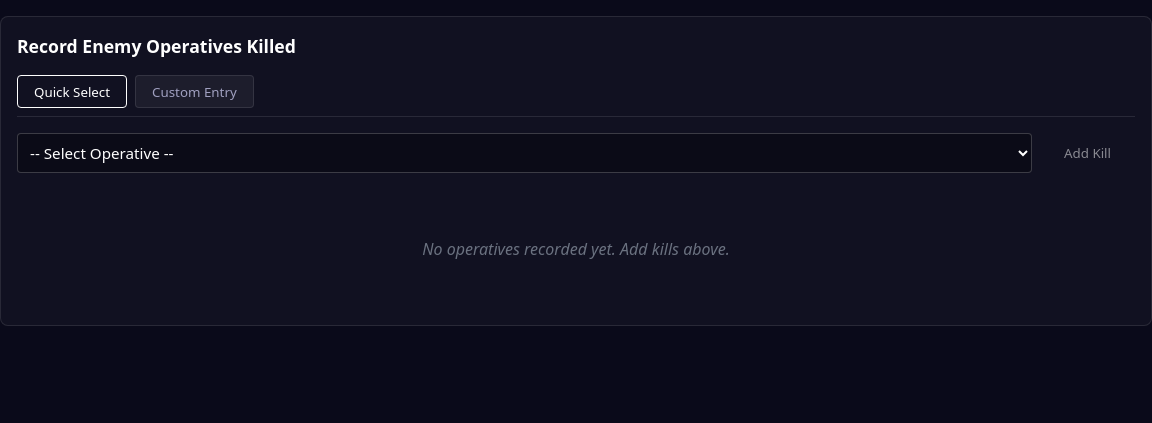
Test: OperativeKillRecorder › mode switching › should switch to custom mode when custom button clicked
The image size is (1152, 423).
Click the button "Custom Entry" at (194, 92), box top-left (135, 75), bottom-right (254, 108)
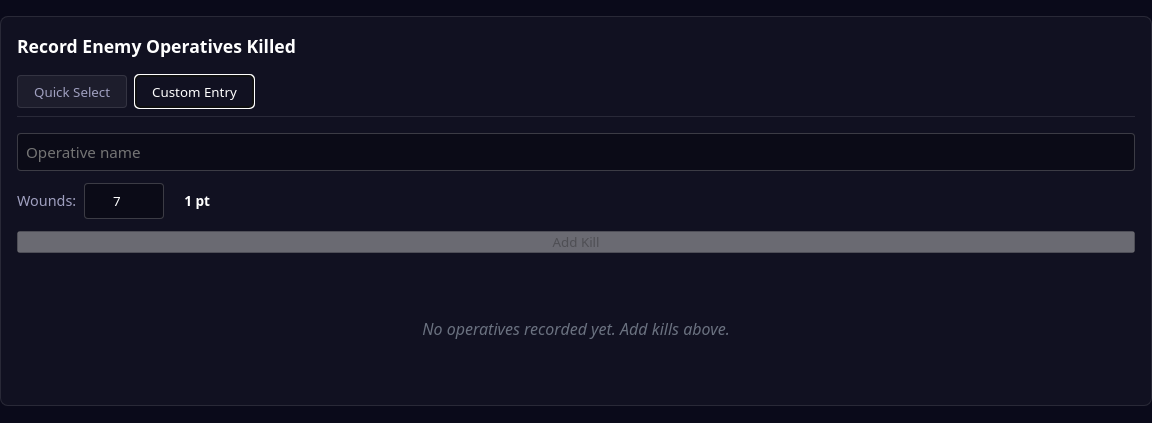
expect the field with placeholder "Operative name" is shown: met, box top-left (17, 133), bottom-right (1135, 171)
